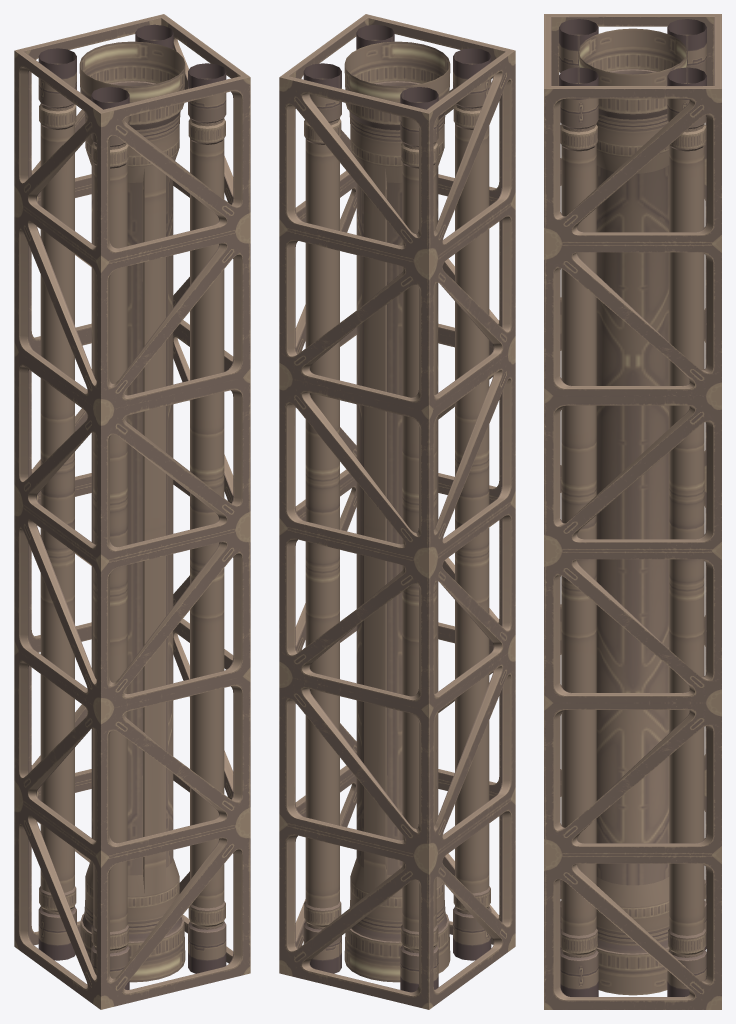
Rendered from Column_Pipes.gltf.
3 views of the same model, side by side, from view 1: azimuth 30°, elevation 25°; view 2: azimuth 150°, elevation 25°; view 3: azimuth 270°, elevation 25° (orthographic). The views are drawn at different scales.
Visible parts, largest first — view 1: Column_Pipes; view 2: Column_Pipes; view 3: Column_Pipes.
Boxes of the visible parts, x1,y1,x2,y2 form: Column_Pipes: [14, 14, 250, 1009]; Column_Pipes: [279, 14, 515, 1009]; Column_Pipes: [544, 14, 721, 1009].
Bounding box in the file's own units: 0.8746 × 5 × 0.8746.
3 materials, 3 textured.
